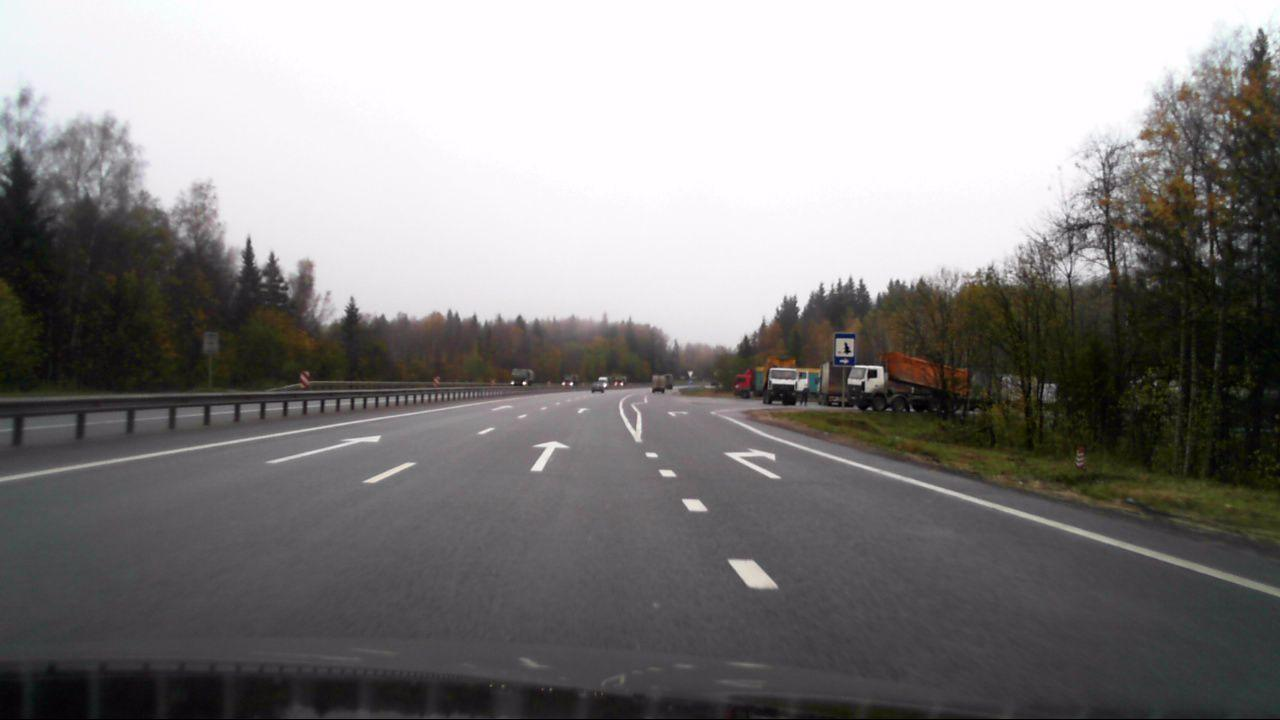7_11: (833, 333, 854, 366)
